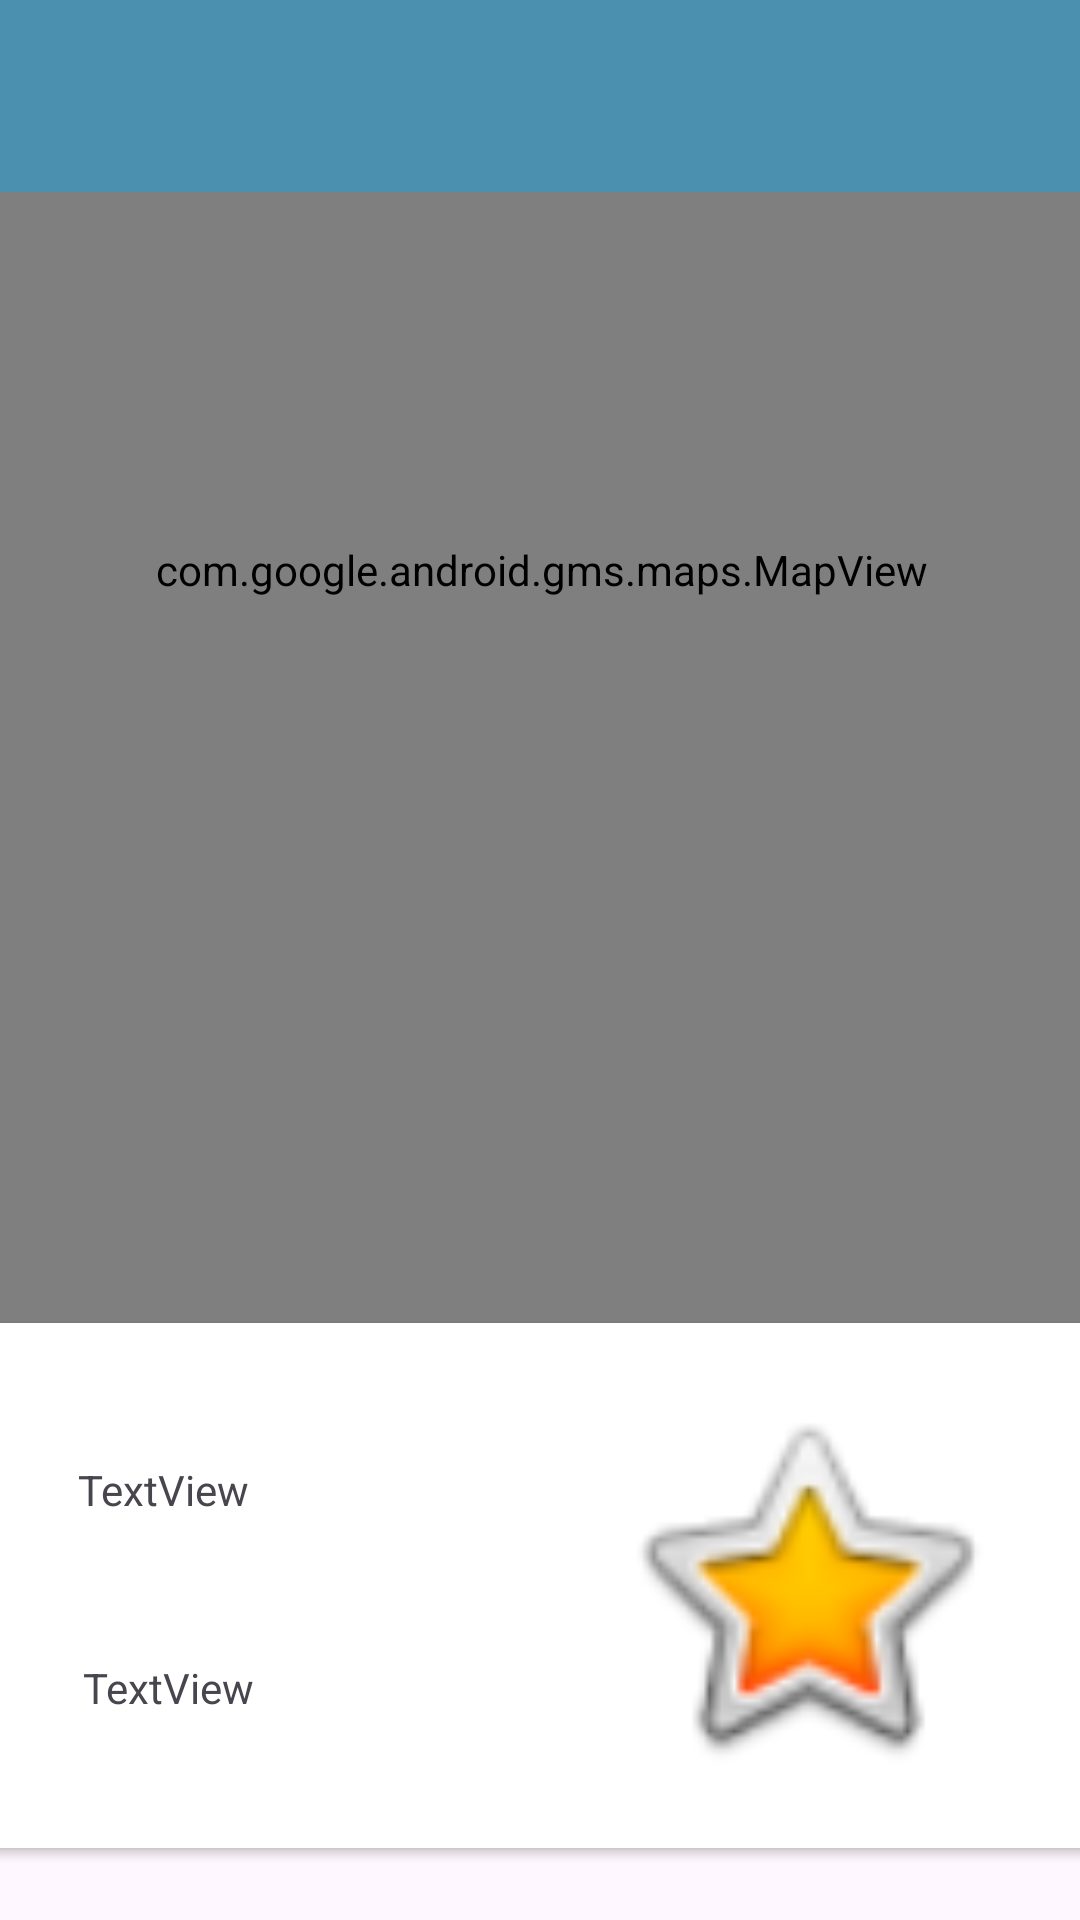

Where icons sit on this 1080*1920 app screen, as [left=x1, top=y1, right=x2, bottom=y2]:
star on: [left=643, top=1428, right=974, bottom=1750]
